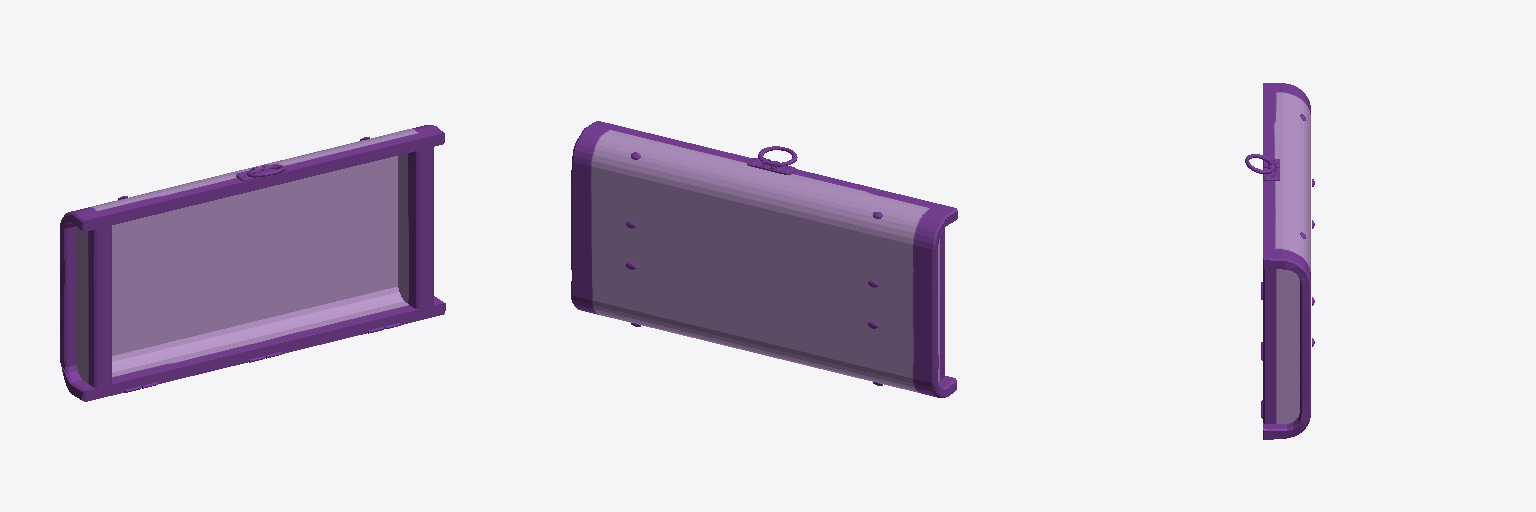
3 views of the same model, side by side, from view 1: azimuth 30°, elevation 25°; view 2: azimuth 150°, elevation 25°; view 3: azimuth 270°, elevation 25° (orthographic).
Parts seen in each view (by area): view 1: chestarriba:polySurface67; view 2: chestarriba:polySurface67; view 3: chestarriba:polySurface67.
Part boxes in pixels (x1,y1,x2,y2): chestarriba:polySurface67: (60,125,445,401); chestarriba:polySurface67: (571,121,957,397); chestarriba:polySurface67: (1245,83,1314,439).
Bounding box in the file's own units: 4 × 2.02 × 0.6584.
Materials: 2 (2 with a texture image).